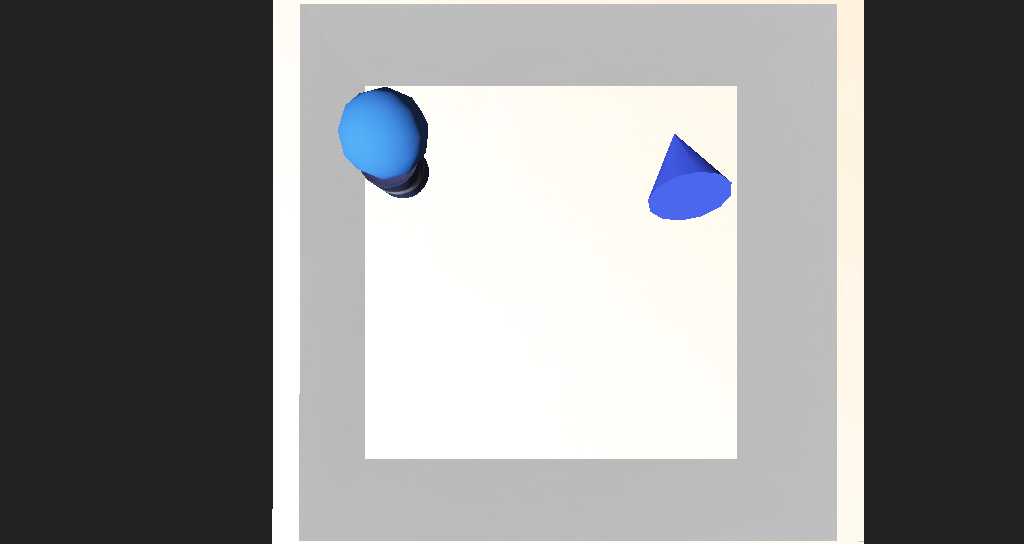cone: (350, 186, 404, 224)
cylinder: (576, 169, 650, 241)
sphere: (333, 167, 408, 215)
